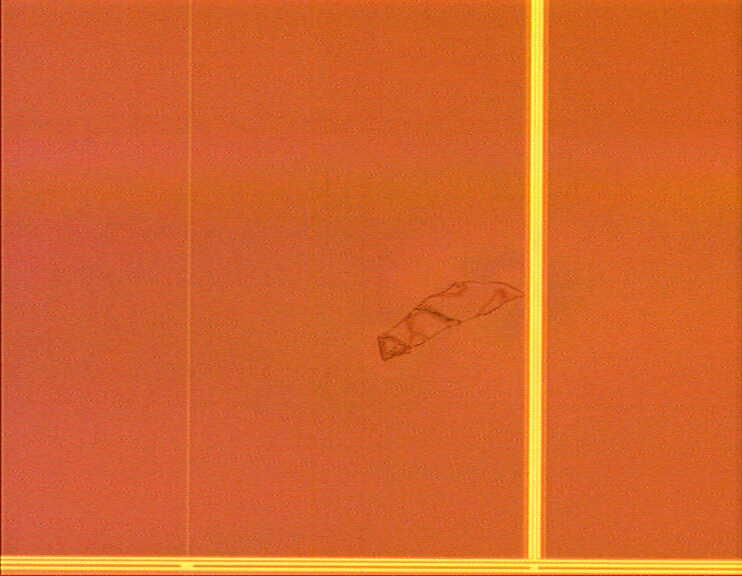PIQ PARTICLE: (377, 278, 531, 364)
